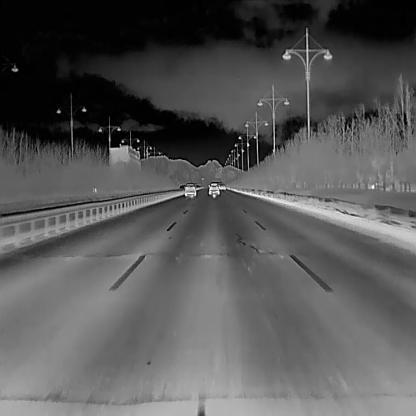car: (207, 181, 220, 197), (184, 182, 197, 197), (219, 182, 226, 190), (178, 184, 185, 189)
